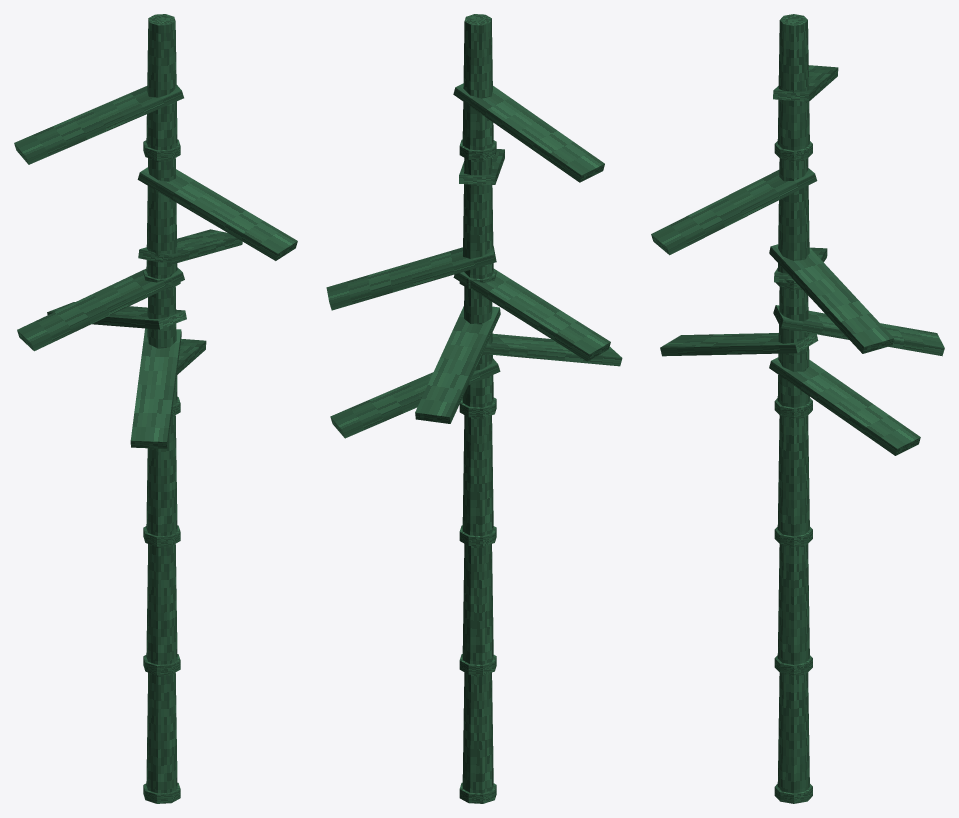
The model's file is bamboo_04.glb.
3 renders of one model, left to right at view 1: azimuth 30°, elevation 25°; view 2: azimuth 150°, elevation 25°; view 3: azimuth 270°, elevation 25°, orthographic.
Visible parts, largest first — view 1: Leaf.003, Leaf.002, Leaf.004, Leaf.006, Stem.005, Stem.001, Stem, Stem.002, Stem.004, Leaf.001, Stem.003, Leaf (+1 smaller); view 2: Leaf.002, Leaf, Leaf.004, Leaf.001, Stem, Stem.002, Stem.001, Stem.005, Leaf.005, Stem.004, Leaf.006, Stem.003 (+1 smaller); view 3: Leaf.005, Leaf.001, Leaf.003, Stem.005, Stem, Stem.001, Stem.002, Leaf.006, Stem.004, Stem.003, Leaf, Leaf.002.
Boxes of the visible parts, x1,y1,x2,y2 form: Leaf.003: [137, 167, 297, 260]; Leaf.002: [14, 85, 183, 164]; Leaf.004: [17, 267, 184, 351]; Leaf.006: [130, 328, 181, 448]; Stem.005: [146, 14, 177, 150]; Stem.001: [146, 544, 177, 664]; Stem: [146, 672, 177, 793]; Stem.002: [146, 415, 177, 536]; Stem.004: [146, 158, 177, 278]; Leaf.001: [138, 229, 242, 264]; Stem.003: [147, 286, 177, 404]; Leaf: [47, 302, 186, 329]; Leaf.002: [453, 83, 604, 182]; Leaf: [415, 306, 500, 423]; Leaf.004: [453, 270, 610, 361]; Leaf.001: [326, 246, 496, 310]; Stem: [462, 672, 493, 793]; Stem.002: [462, 415, 493, 536]; Stem.001: [462, 544, 493, 664]; Stem.005: [462, 14, 493, 150]; Leaf.005: [330, 358, 500, 438]; Stem.004: [463, 158, 493, 278]; Leaf.006: [483, 333, 622, 366]; Stem.003: [462, 286, 493, 407]; Leaf.005: [769, 357, 920, 455]; Leaf.001: [769, 244, 893, 353]; Leaf.003: [651, 168, 817, 255]; Stem.005: [777, 14, 809, 150]; Stem: [777, 672, 809, 793]; Stem.001: [777, 544, 809, 664]; Stem.002: [777, 415, 809, 536]; Leaf.006: [660, 333, 818, 356]; Stem.004: [777, 158, 809, 273]; Stem.003: [777, 287, 809, 407]; Leaf: [773, 305, 944, 356]; Leaf.002: [773, 65, 838, 101].
Bounding box in the file's own units: 1.41 × 4.23 × 1.45.
Materials: 1 (1 with a texture image).
